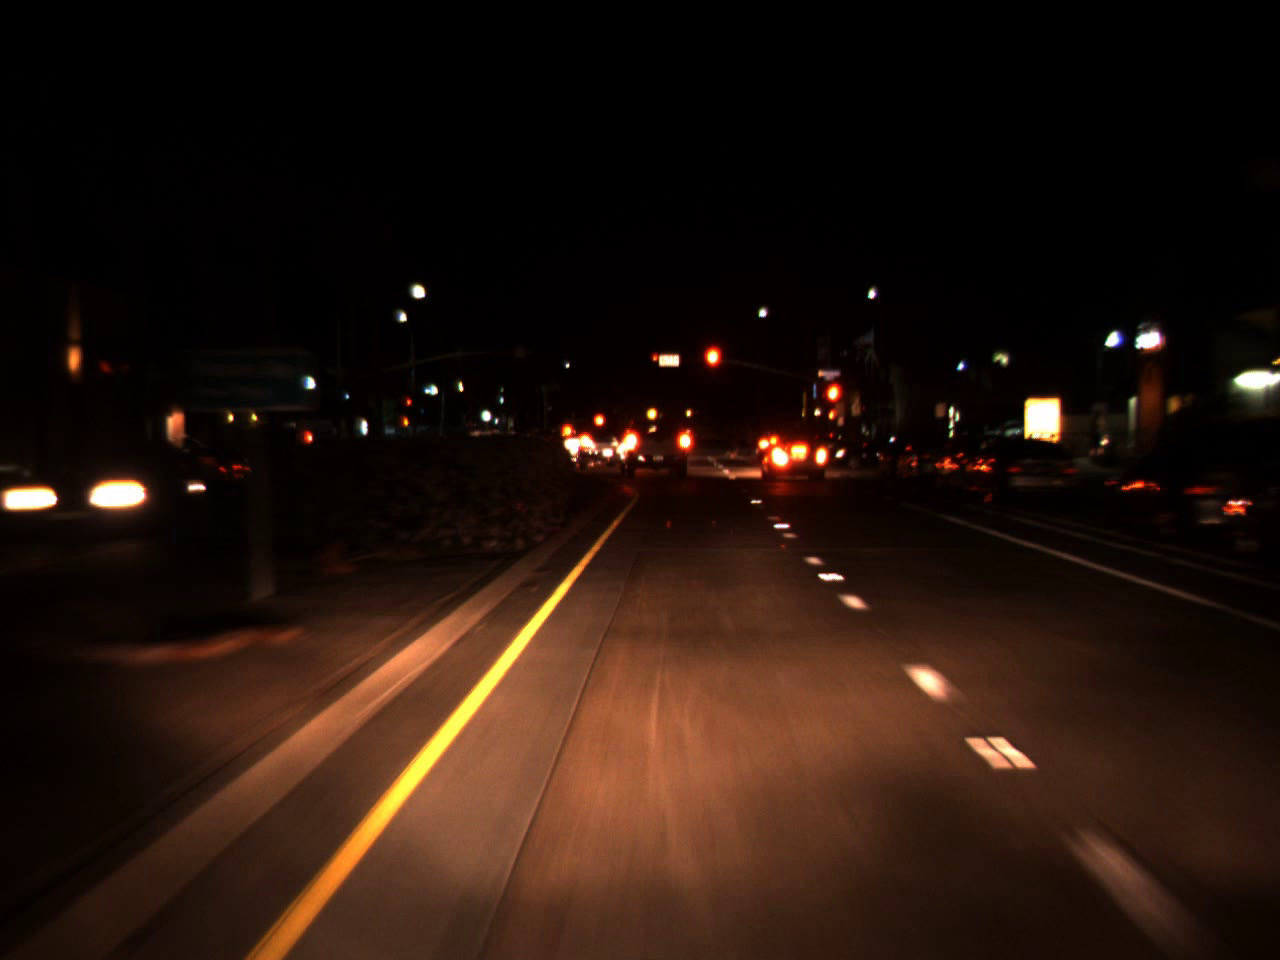stop: (701, 343, 723, 391), (822, 379, 844, 427), (651, 353, 658, 366), (406, 398, 412, 411)
